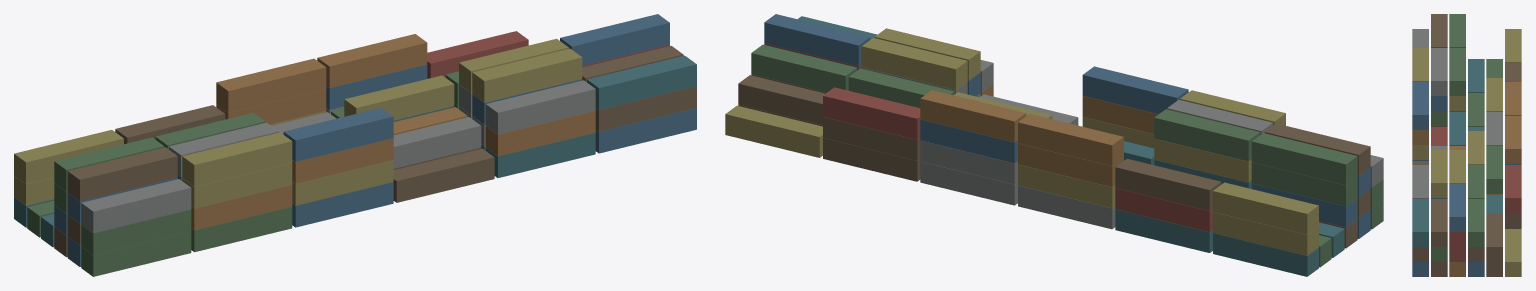
The model's file is container_stack_6.glb.
3 renders of one model, left to right at view 1: azimuth 30°, elevation 25°; view 2: azimuth 150°, elevation 25°; view 3: azimuth 270°, elevation 25°, orthographic. The views are drawn at different scales.
Visible parts, largest first — view 1: LOD0; view 2: LOD0; view 3: LOD0.
Part boxes in pixels (x1=…): LOD0: x1=14, y1=14, x2=696, y2=276; LOD0: x1=725, y1=14, x2=1383, y2=276; LOD0: x1=1412, y1=14, x2=1521, y2=276.
Size of what is drawn, in the model's own units: 75.2 by 10.38 by 17.1.
